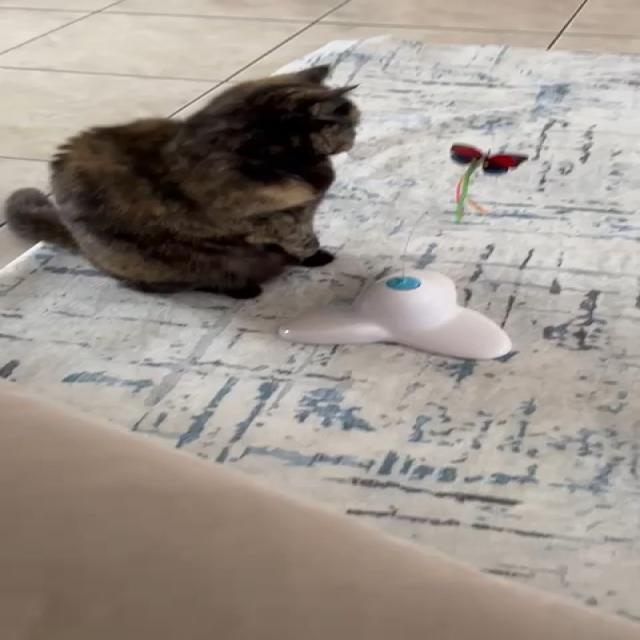authorized: (4, 63, 363, 300)
